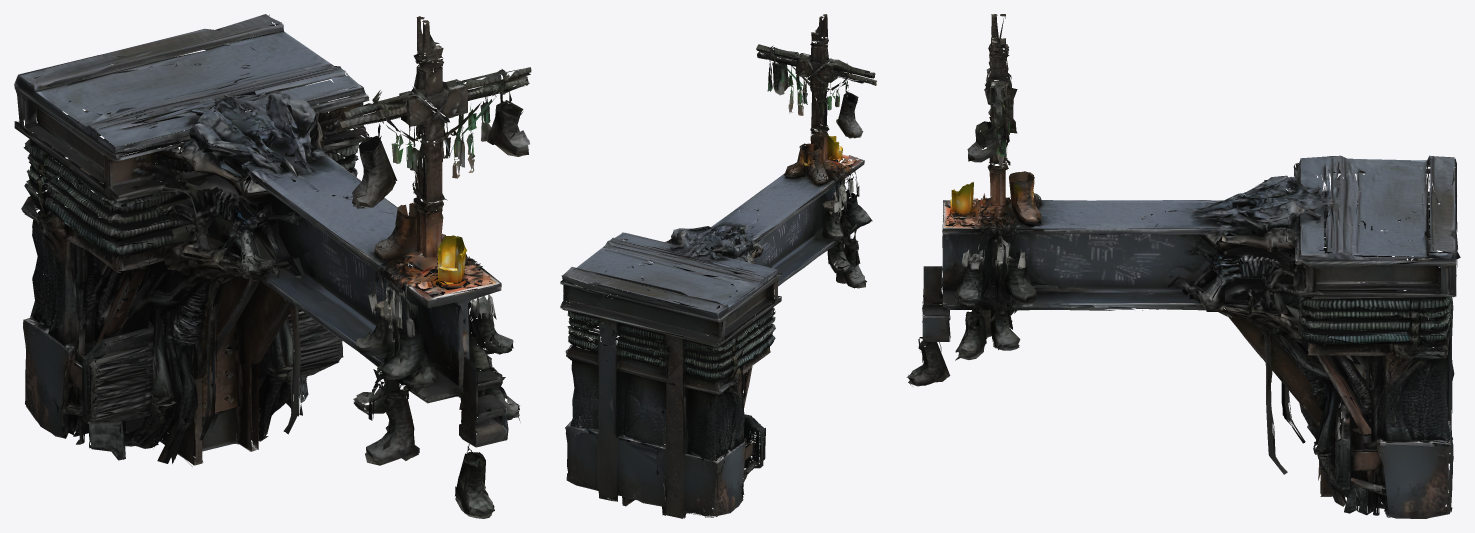
File: chasm_suicide_ledge_cross.glb
3 renders of one model, left to right at view 1: azimuth 30°, elevation 25°; view 2: azimuth 150°, elevation 25°; view 3: azimuth 270°, elevation 25°, orthographic. The views are drawn at different scales.
Parts seen in each view (by area): view 1: node_0; view 2: node_0; view 3: node_0.
Part boxes in pixels (<box>): node_0: <box>14,14,531,518</box>; node_0: <box>560,14,876,518</box>; node_0: <box>906,14,1460,518</box>.
Bounding box in the file's own units: 0.3826 × 0.8306 × 0.8895.
Materials: 1 (1 with a texture image).
